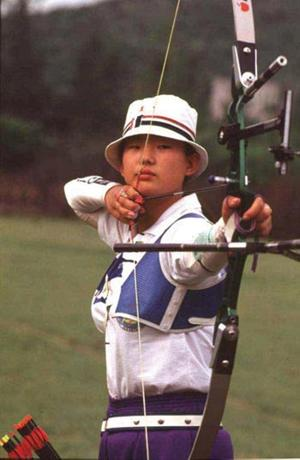person: (65, 97, 272, 460)
